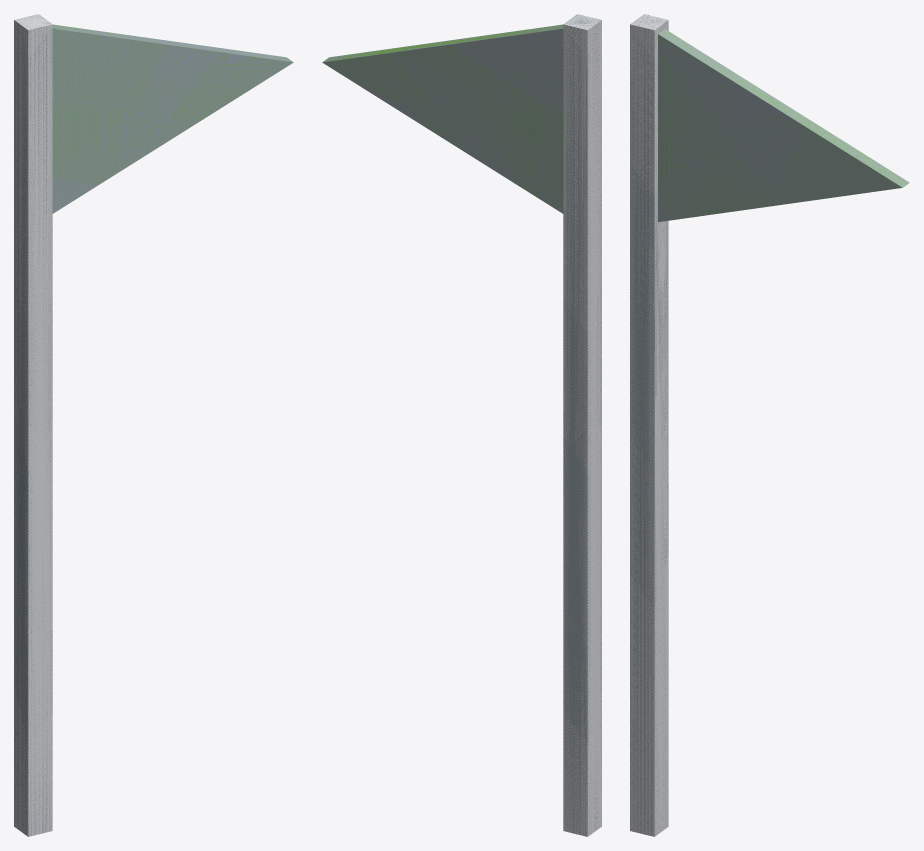
The model's file is Flag_green_01.obj.
3 views of the same model, side by side, from view 1: azimuth 30°, elevation 25°; view 2: azimuth 150°, elevation 25°; view 3: azimuth 330°, elevation 25° (orthographic).
Visible parts, largest first — view 1: Mesh1 Flag_green Model; view 2: Mesh1 Flag_green Model; view 3: Mesh1 Flag_green Model.
Boxes of the visible parts, x1,y1,x2,y2 form: Mesh1 Flag_green Model: (14,14,293,836); Mesh1 Flag_green Model: (322,14,601,836); Mesh1 Flag_green Model: (630,14,909,836).
Size of the model in its own units: 2.2 by 6.3 by 0.2.
